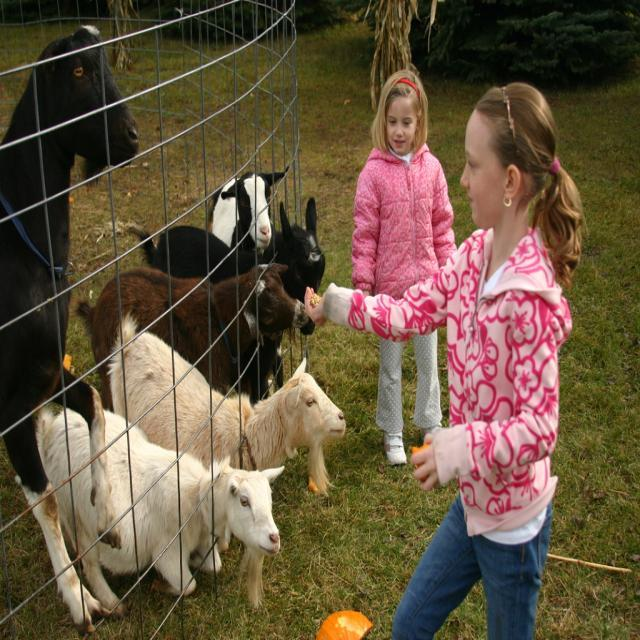Goat: (19, 396, 286, 612), (106, 312, 346, 495), (69, 260, 315, 410), (208, 163, 291, 257)
